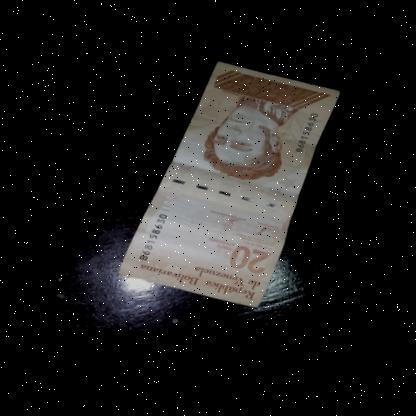vef_front: (92, 44, 355, 330)
